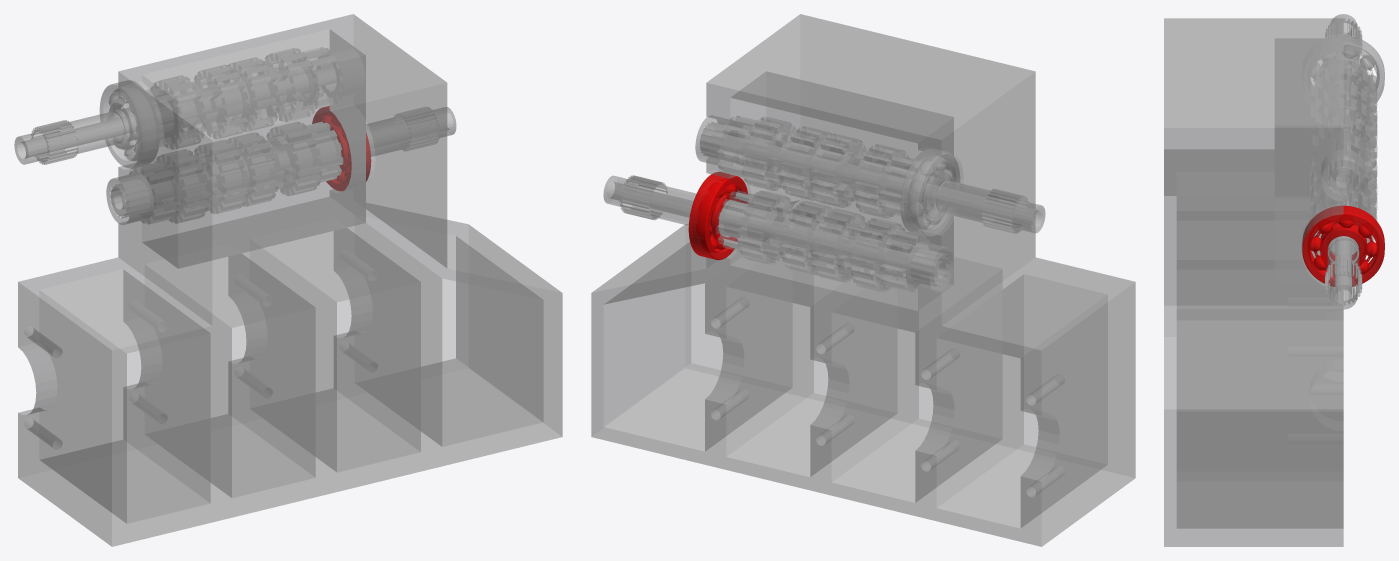
Rendered from NEW - 3 Transparent Gearbox Bearing Fault.fbx.
3 views of the same model, side by side, from view 1: azimuth 30°, elevation 25°; view 2: azimuth 150°, elevation 25°; view 3: azimuth 270°, elevation 25° (orthographic). The views are drawn at different scales.
Parts seen in each view (by area): view 1: Gearbox assem without gear and bearing - GearBox with one sh, Gearbox assem without gear and bearing - Shaft Assembly with, Gearbox assem without gear and bearing - Medium Gear (4 prot, Gearbox assem without gear and bearing - ballbearing-1, Gearbox assem without gear and bearing - Small Gear-1; view 2: Gearbox assem without gear and bearing - GearBox with one sh, Gearbox assem without gear and bearing - Shaft Assembly with, Gearbox assem without gear and bearing - ballbearing-1, Gearbox assem without gear and bearing - Medium Gear (4 prot, Gearbox assem without gear and bearing - Small Gear-1; view 3: Gearbox assem without gear and bearing - GearBox with one sh, Gearbox assem without gear and bearing - ballbearing-1, Gearbox assem without gear and bearing - Shaft Assembly with, Gearbox assem without gear and bearing - Medium Gear (4 prot.
Boxes of the visible parts, bbox=[...] form: Gearbox assem without gear and bearing - GearBox with one sh: bbox=[14, 14, 562, 546]; Gearbox assem without gear and bearing - Shaft Assembly with: bbox=[106, 107, 456, 224]; Gearbox assem without gear and bearing - Medium Gear (4 prot: bbox=[265, 122, 321, 195]; Gearbox assem without gear and bearing - ballbearing-1: bbox=[312, 106, 370, 190]; Gearbox assem without gear and bearing - Small Gear-1: bbox=[307, 122, 342, 181]; Gearbox assem without gear and bearing - GearBox with one sh: bbox=[591, 14, 1135, 546]; Gearbox assem without gear and bearing - Shaft Assembly with: bbox=[603, 175, 953, 293]; Gearbox assem without gear and bearing - ballbearing-1: bbox=[688, 172, 747, 260]; Gearbox assem without gear and bearing - Medium Gear (4 prot: bbox=[737, 190, 794, 264]; Gearbox assem without gear and bearing - Small Gear-1: bbox=[716, 190, 767, 251]; Gearbox assem without gear and bearing - GearBox with one sh: bbox=[1164, 14, 1384, 546]; Gearbox assem without gear and bearing - ballbearing-1: bbox=[1302, 205, 1384, 286]; Gearbox assem without gear and bearing - Shaft Assembly with: bbox=[1310, 159, 1377, 309]; Gearbox assem without gear and bearing - Medium Gear (4 prot: bbox=[1310, 191, 1377, 241].
Bounding box in the file's own units: 36000 × 29200 × 15990.
